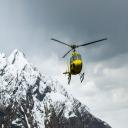helicopter: (52, 31, 110, 89)
